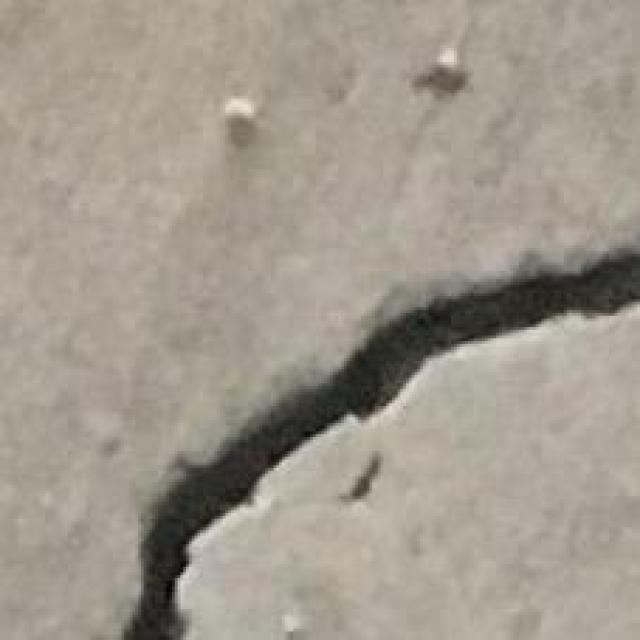diagonal crack: (122, 248, 639, 639)
